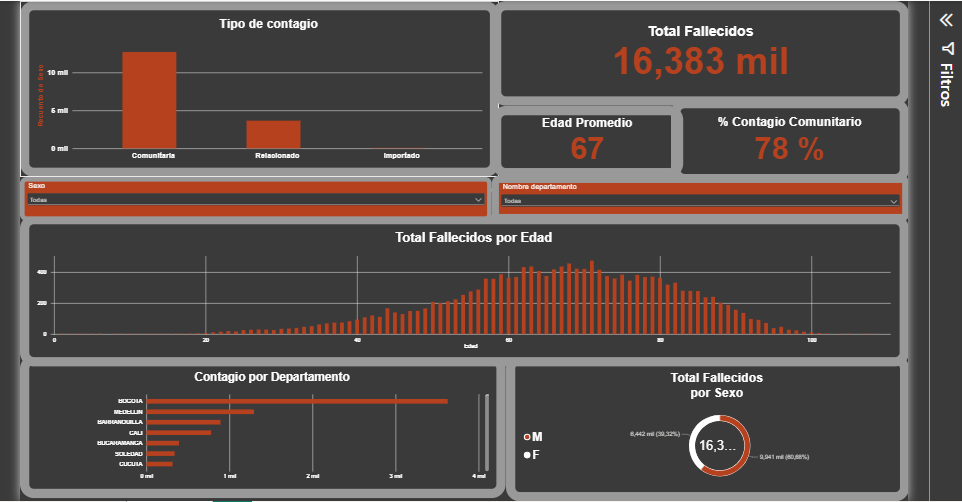

What the dashboard file says about the page in this screenshot:
{"tool":"powerbi","page":{"name":"Página 1","canvas":[1920,1080],"ordinal":0},"visuals":[{"type":"donutChart","fields":{"Category":["Fallecidos_COVID_en_Colombia_20.Sexo"],"Y":["Tabla a _Medidas.Total Fallecidos"]},"box":[1048.7,765.2,871.3,315.8],"z":4000},{"type":"clusteredBarChart","title":"Contagio por Departamento","fields":{"Category":["Fallecidos_COVID_en_Colombia_20.Nombre municipio"],"Y":["CountNonNull(Fallecidos_COVID_en_Colombia_20.Tipo de contagio)"]},"box":[0,765.2,1048.7,308.9],"z":5000},{"type":"clusteredColumnChart","fields":{"Category":["Fallecidos_COVID_en_Colombia_20.Edad"],"Y":["Tabla a _Medidas.Total Fallecidos"]},"box":[0,463.3,1920,327.3],"z":6000},{"type":"clusteredColumnChart","fields":{"Category":["Fallecidos_COVID_en_Colombia_20.Tipo de contagio"],"Y":["CountNonNull(Fallecidos_COVID_en_Colombia_20.Sexo)"]},"box":[0,0,1034.9,380.3],"z":7000},{"type":"cardVisual","fields":{"Data":["Tabla a _Medidas.Total Fallecidos"]},"box":[1018.8,0,901.2,225.9],"z":8000},{"type":"cardVisual","fields":{"Data":["Tabla a _Medidas.Edad Promedio"]},"box":[1018.8,225.9,412.6,154.4],"z":9000},{"type":"cardVisual","fields":{"Data":["Tabla a _Medidas.% Contagio Comunitario"]},"box":[1406,212.1,514,182.1],"z":10000},{"type":"slicer","fields":{"Values":["Fallecidos_COVID_en_Colombia_20.Sexo"]},"box":[0,380.3,1018.8,94.5],"z":15000},{"type":"slicer","fields":{"Values":["Fallecidos_COVID_en_Colombia_20.Nombre departamento"]},"box":[1018.8,378,901.2,96.8],"z":16000}]}

Visuals, with their boxes in screenshot pixels (x1, y1, x2, y2):
donutChart - Fallecidos_COVID_en_Colombia_20.Sexo x Tabla a _Medidas.Total Fallecidos: bbox=[497, 355, 896, 500]
"Contagio por Departamento" clusteredBarChart: bbox=[18, 355, 497, 496]
clusteredColumnChart - Fallecidos_COVID_en_Colombia_20.Edad x Tabla a _Medidas.Total Fallecidos: bbox=[18, 217, 896, 367]
clusteredColumnChart - Fallecidos_COVID_en_Colombia_20.Tipo de contagio x CountNonNull(Fallecidos_COVID_en_Colombia_20.Sexo): bbox=[18, 5, 491, 179]
cardVisual - Tabla a _Medidas.Total Fallecidos: bbox=[484, 5, 896, 108]
cardVisual - Tabla a _Medidas.Edad Promedio: bbox=[484, 108, 672, 179]
cardVisual - Tabla a _Medidas.% Contagio Comunitario: bbox=[661, 102, 896, 185]
slicer - Fallecidos_COVID_en_Colombia_20.Sexo: bbox=[18, 179, 484, 222]
slicer - Fallecidos_COVID_en_Colombia_20.Nombre departamento: bbox=[484, 178, 896, 222]
